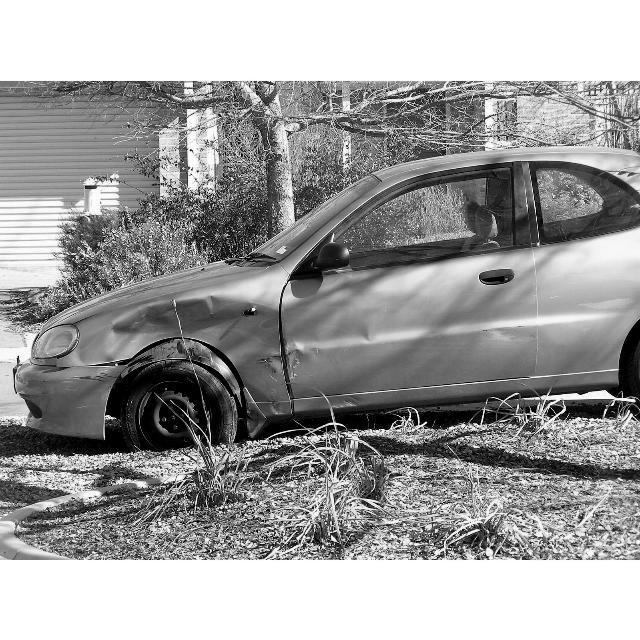doorouter-dent: (285, 275, 535, 401)
fender-dent: (70, 278, 284, 376)
front-bumper-dent: (24, 372, 116, 437)
